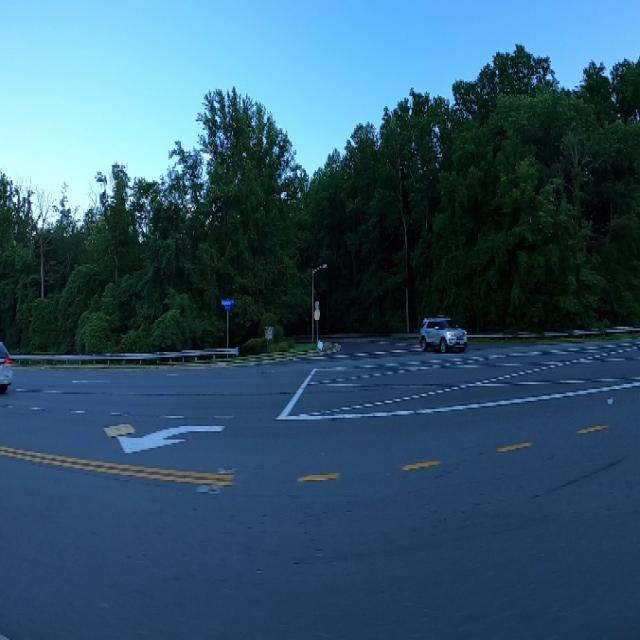car: (414, 309, 468, 356)
